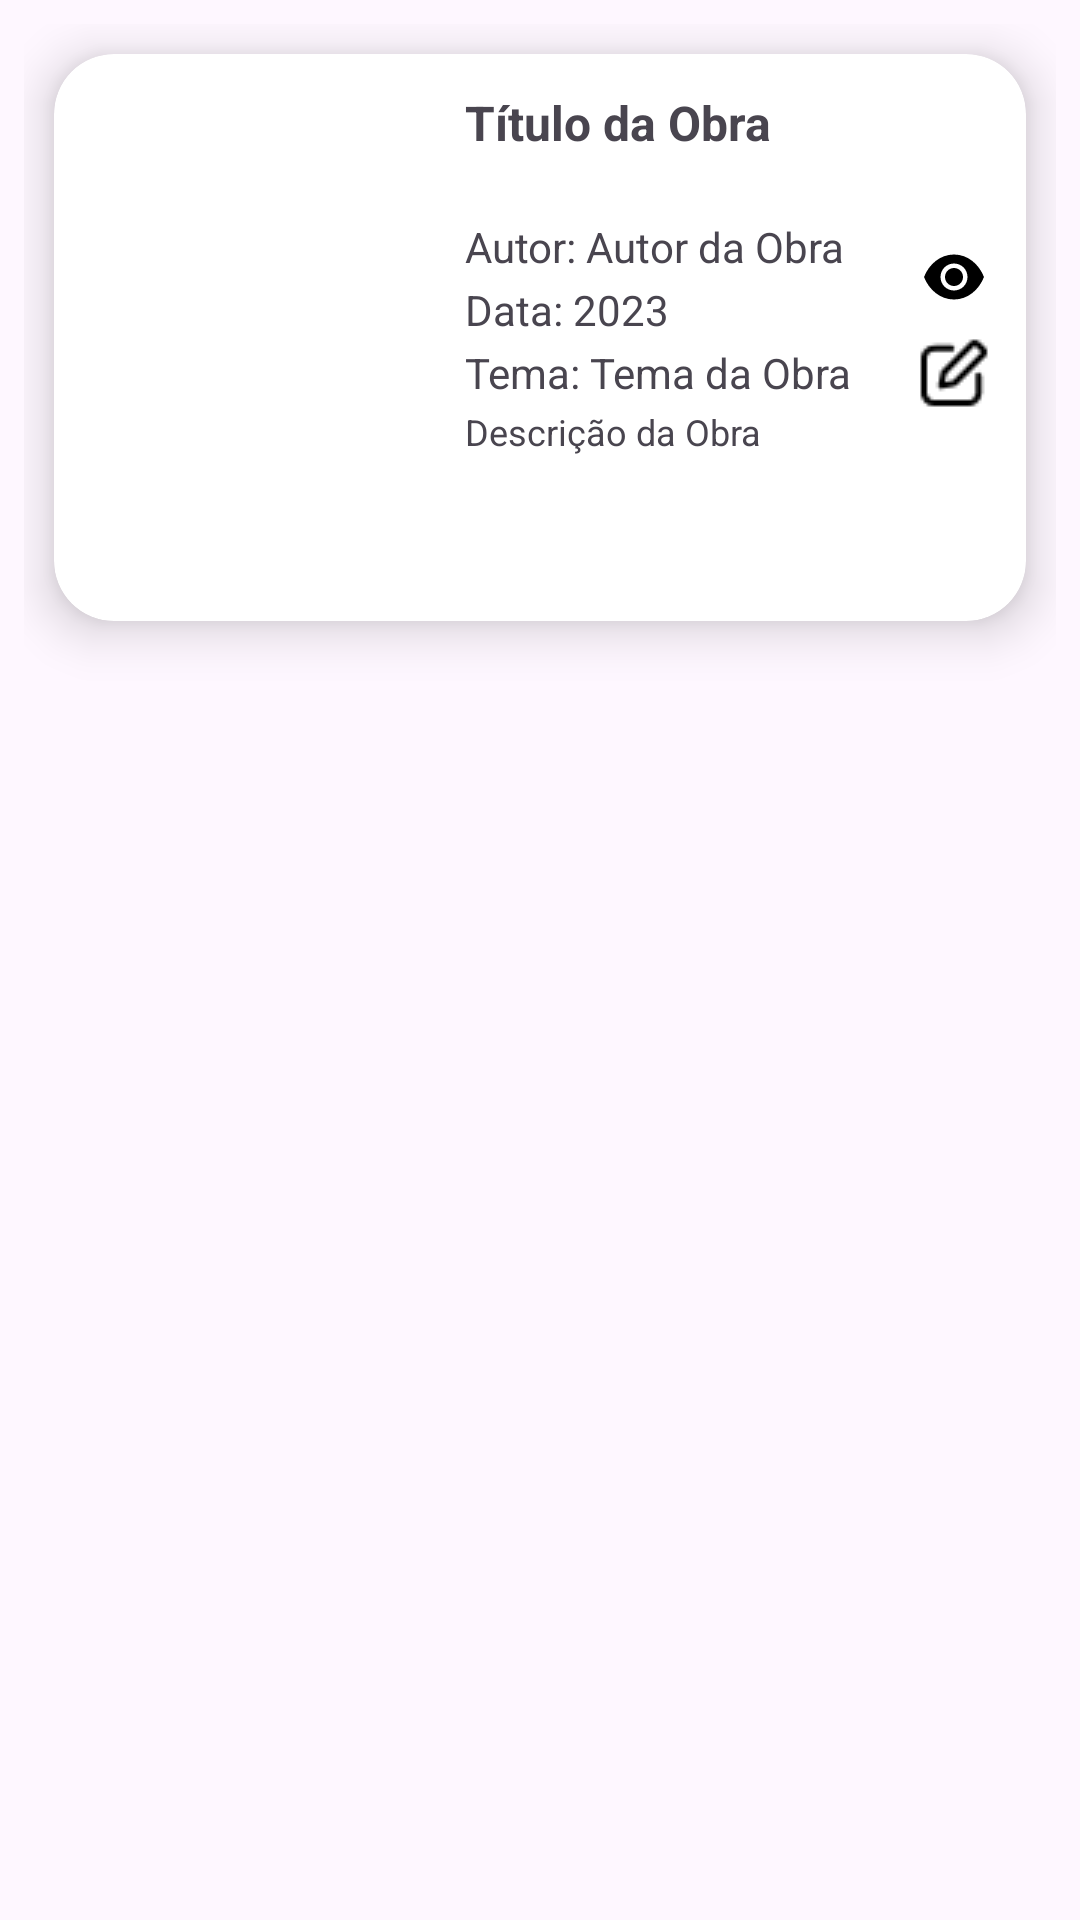

Point at icon controls on the screen. Image size 1080*1920, points as point (x, y).
Editar: point (954, 373)
Ver: point (954, 277)
